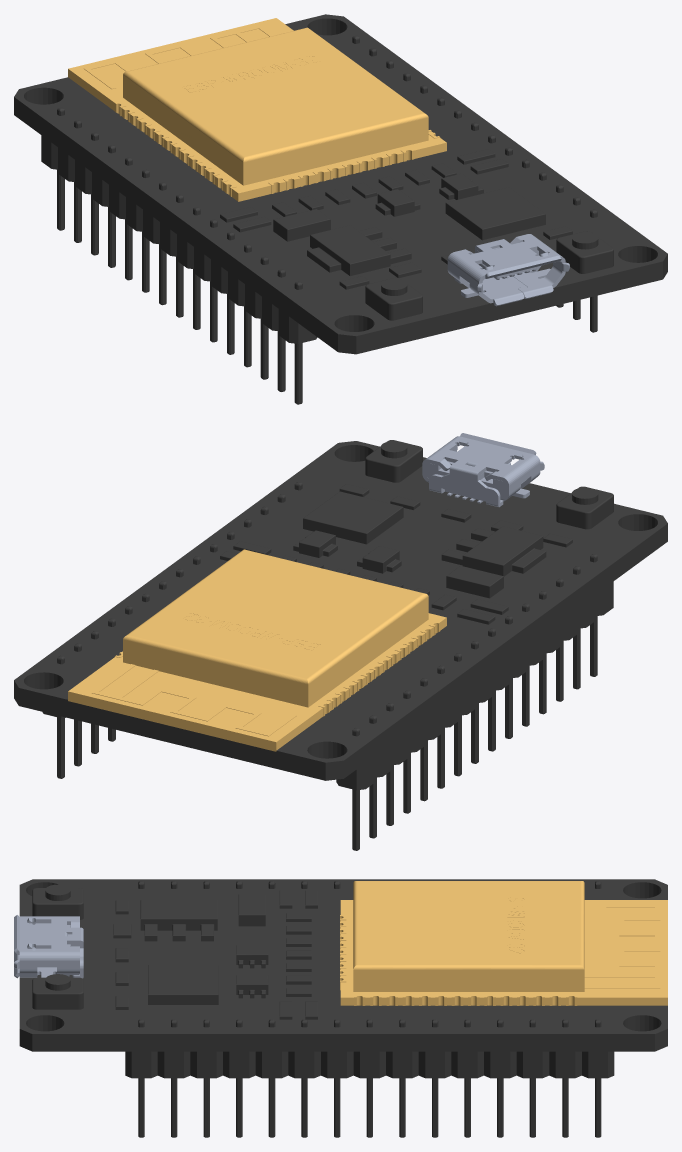
The model's file is esp-32-collada.dae.
The picture shows the model from 3 angles, top to bottom: view 1: azimuth 30°, elevation 25°; view 2: azimuth 150°, elevation 25°; view 3: azimuth 270°, elevation 25°; orthographic projection. The views are drawn at different scales.
Parts seen in each view (by area): view 1: node2, node0, node1; view 2: node2, node0, node1; view 3: node2, node0, node1.
Part boxes in pixels (<box>): node2: <box>14,14,667,404</box>; node0: <box>68,18,446,201</box>; node1: <box>447,234,569,306</box>; node2: <box>14,440,667,850</box>; node0: <box>68,549,446,751</box>; node1: <box>422,433,544,507</box>; node2: <box>19,879,667,1137</box>; node0: <box>340,881,667,1005</box>; node1: <box>14,915,83,978</box>.
Size of the model in its own units: 0.0285 by 0.0509 by 0.0124.
